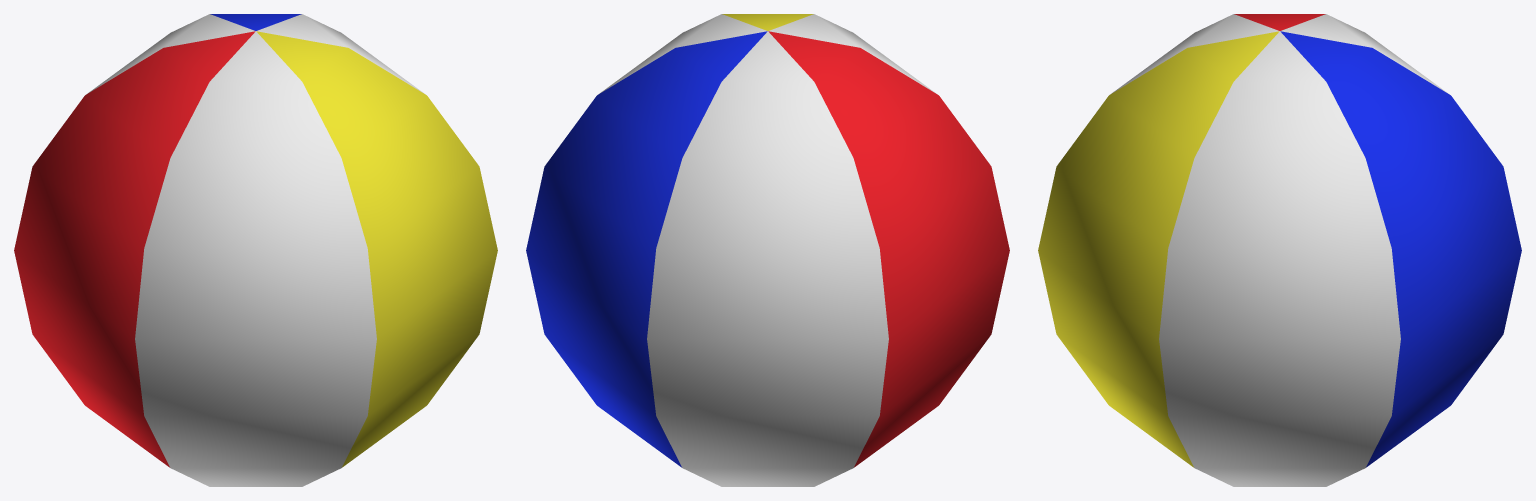
Rendered from pilka.fbx.
3 views of the same model, side by side, from view 1: azimuth 30°, elevation 25°; view 2: azimuth 150°, elevation 25°; view 3: azimuth 270°, elevation 25° (orthographic).
Parts seen in each view (by area): view 1: Piłka; view 2: Piłka; view 3: Piłka.
Boxes of the visible parts, <box> form: Piłka: <box>14,14,497,486</box>; Piłka: <box>526,14,1009,486</box>; Piłka: <box>1038,14,1521,486</box>.
Bounding box in the file's own units: 121 × 139 × 139.
